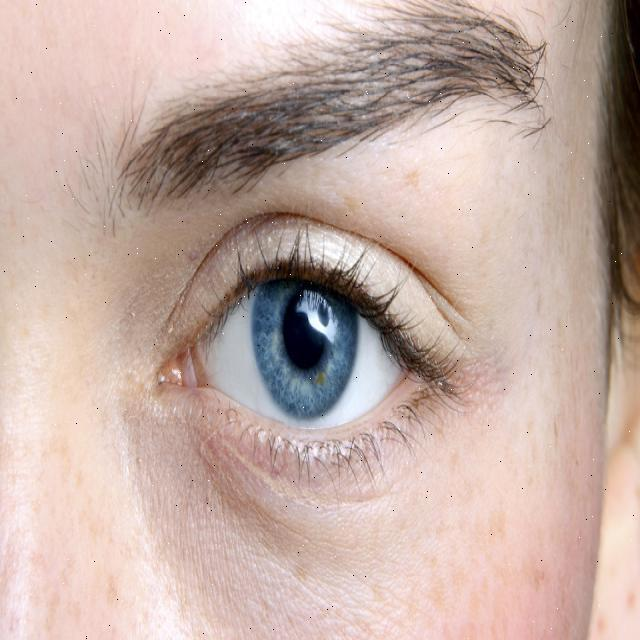Normal: (1, 116, 638, 637)
